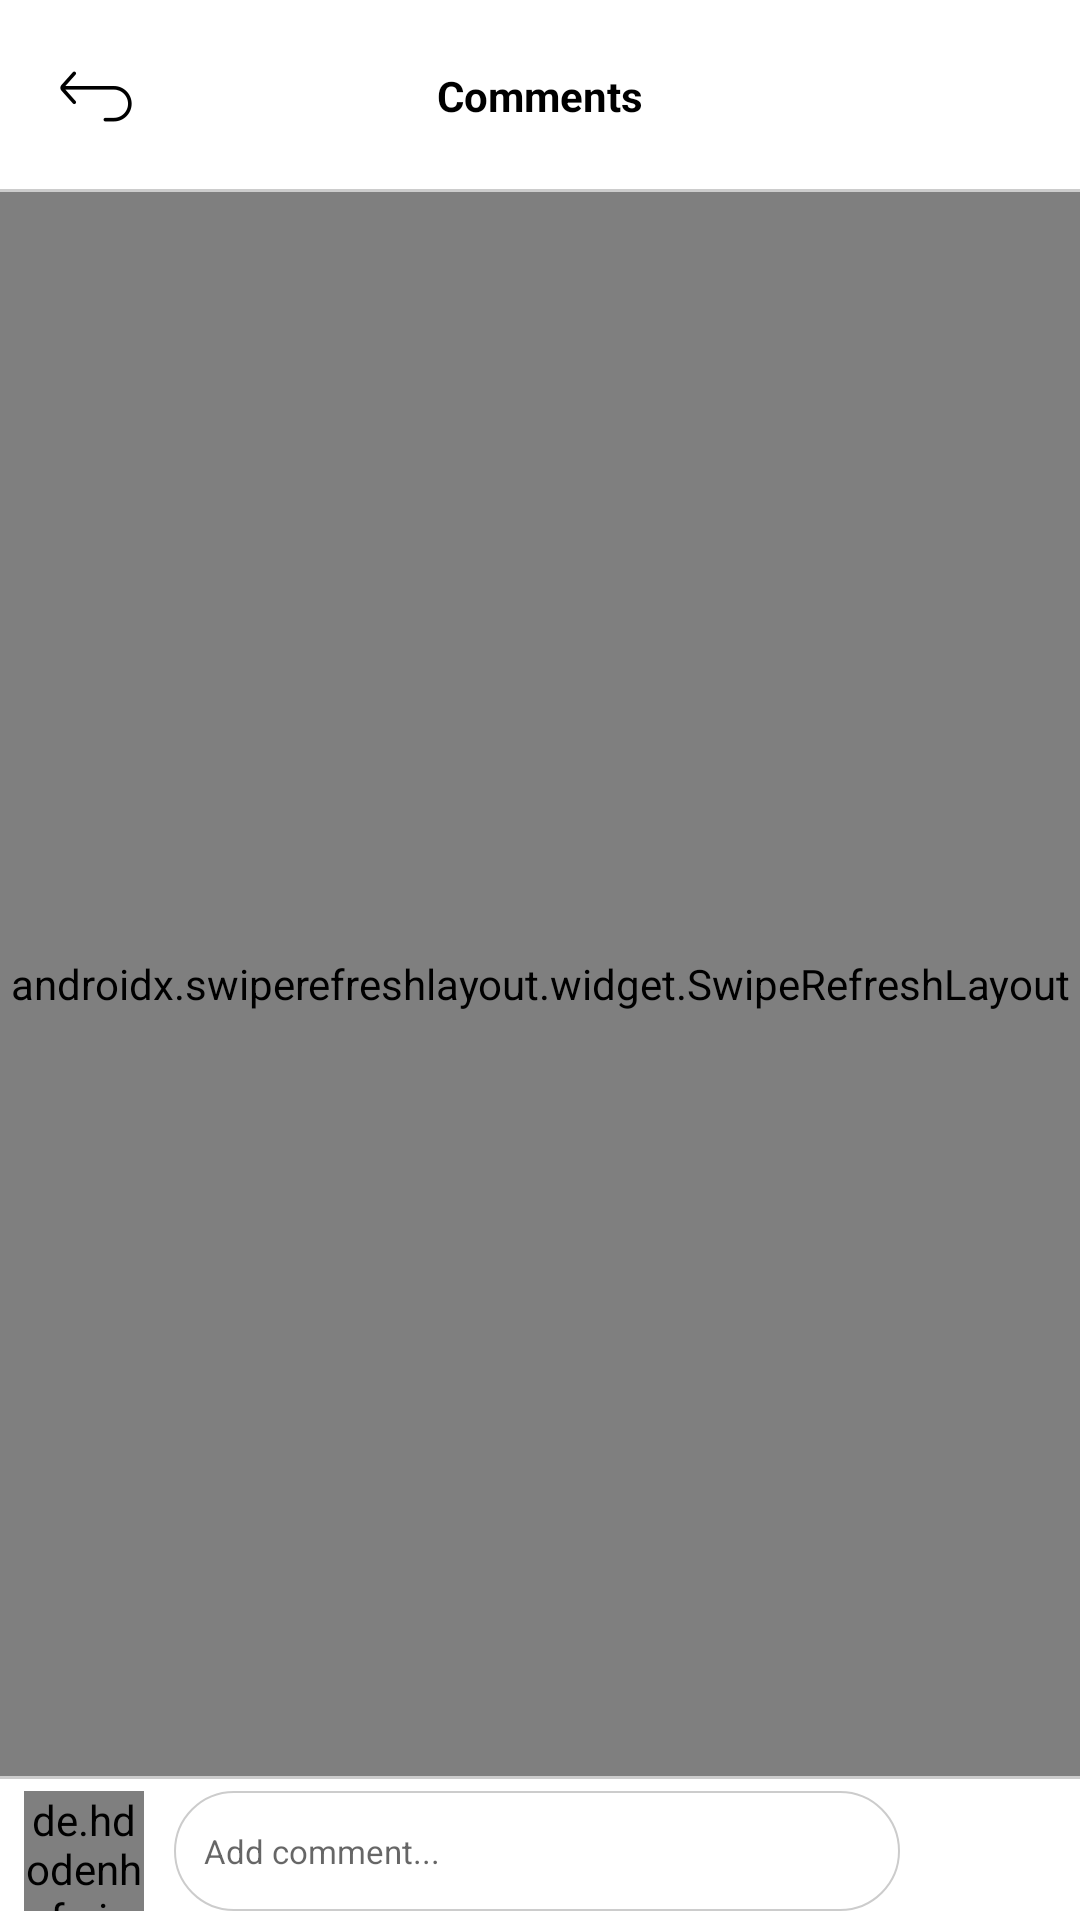

Screen size 1080w x 1920h. Icon name, then its center in pixels as (x,y):
back butt: (96,96)
